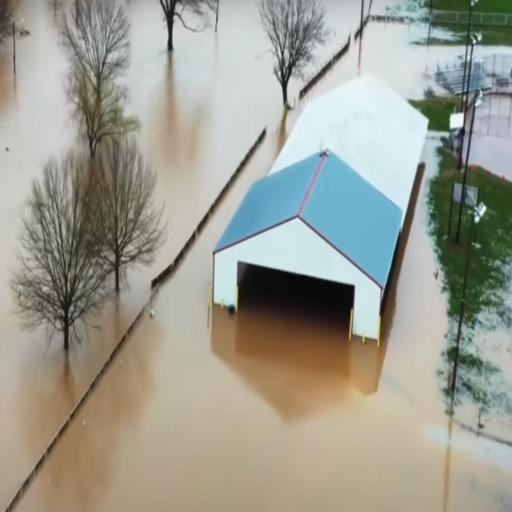flood: (16, 101, 512, 511), (0, 0, 283, 510), (363, 24, 463, 97), (307, 0, 360, 71), (472, 101, 512, 179), (307, 44, 358, 101), (478, 46, 512, 55)
house: (211, 72, 430, 348)
